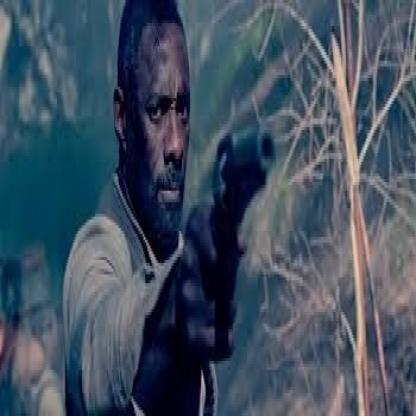Pistol: (205, 107, 287, 298)
